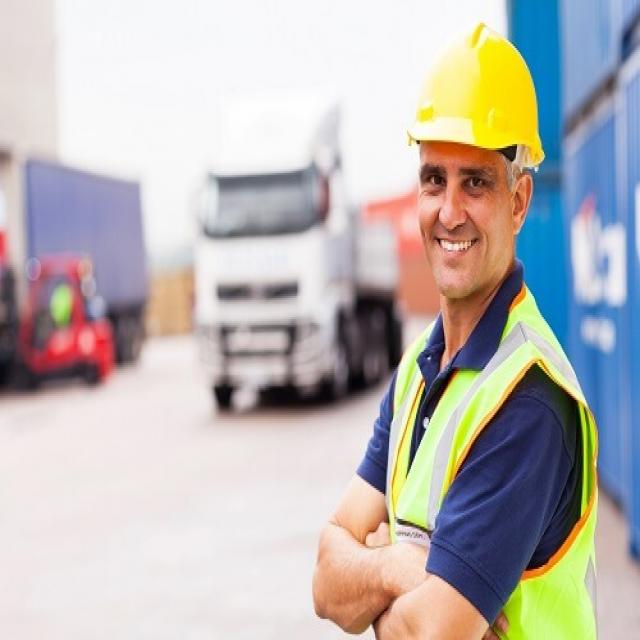Reflective-Jacket: (383, 294, 600, 636)
Safety-Helmet: (403, 23, 547, 175)
